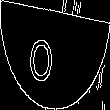O_N: (41, 27, 69, 83)
